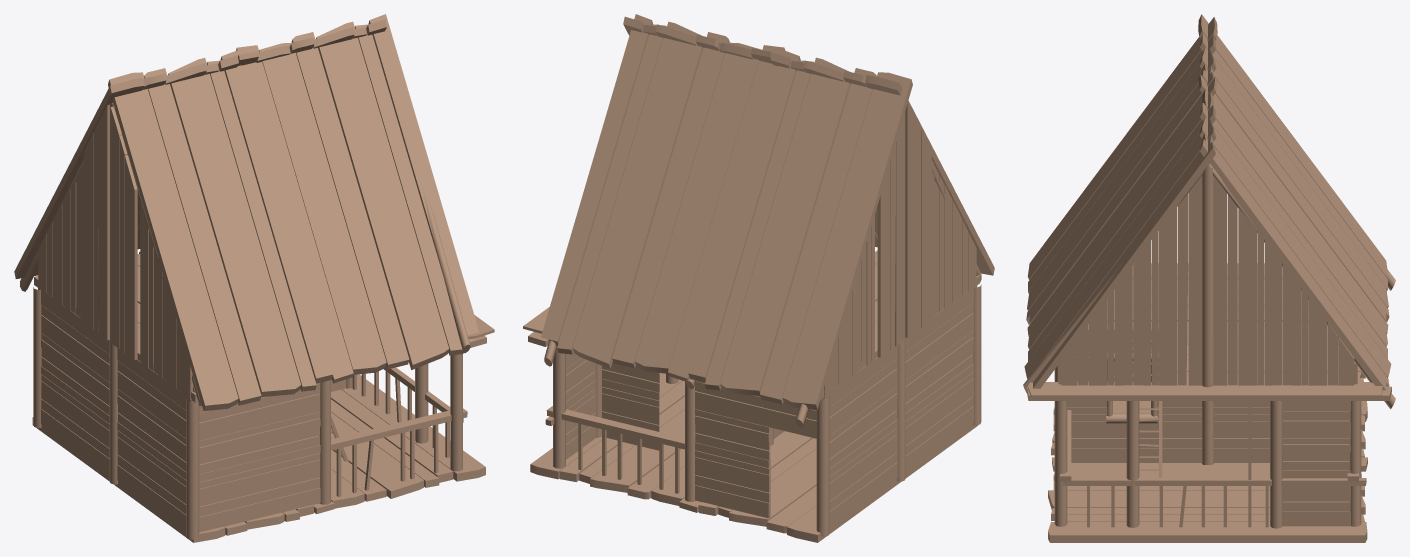
Rendered from house-02.glb.
3 views of the same model, side by side, from view 1: azimuth 30°, elevation 25°; view 2: azimuth 150°, elevation 25°; view 3: azimuth 270°, elevation 25° (orthographic). The views are drawn at different scales.
Visible parts, largest first — view 1: Cylinder.006; view 2: Cylinder.006; view 3: Cylinder.006.
Part boxes in pixels (x1=…): Cylinder.006: x1=14, y1=14, x2=494, y2=542; Cylinder.006: x1=523, y1=14, x2=994, y2=542; Cylinder.006: x1=1023, y1=14, x2=1395, y2=542.
Size of the model in its own units: 9 by 11.72 by 10.15.
